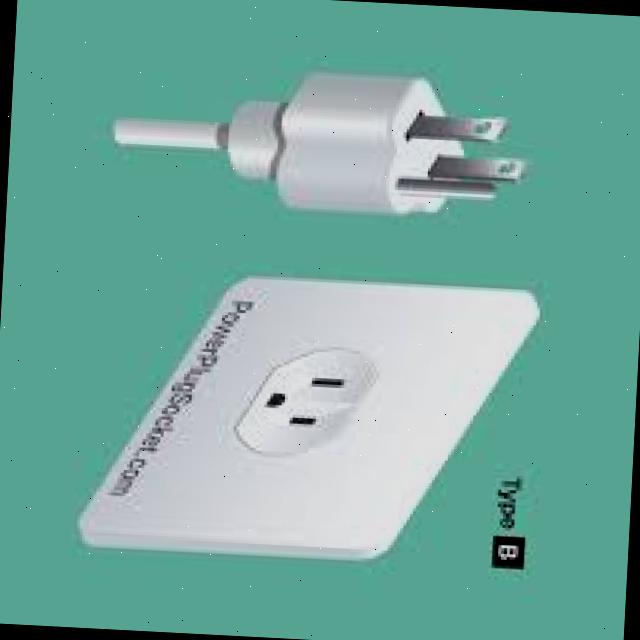type_b: (232, 341, 372, 462)
